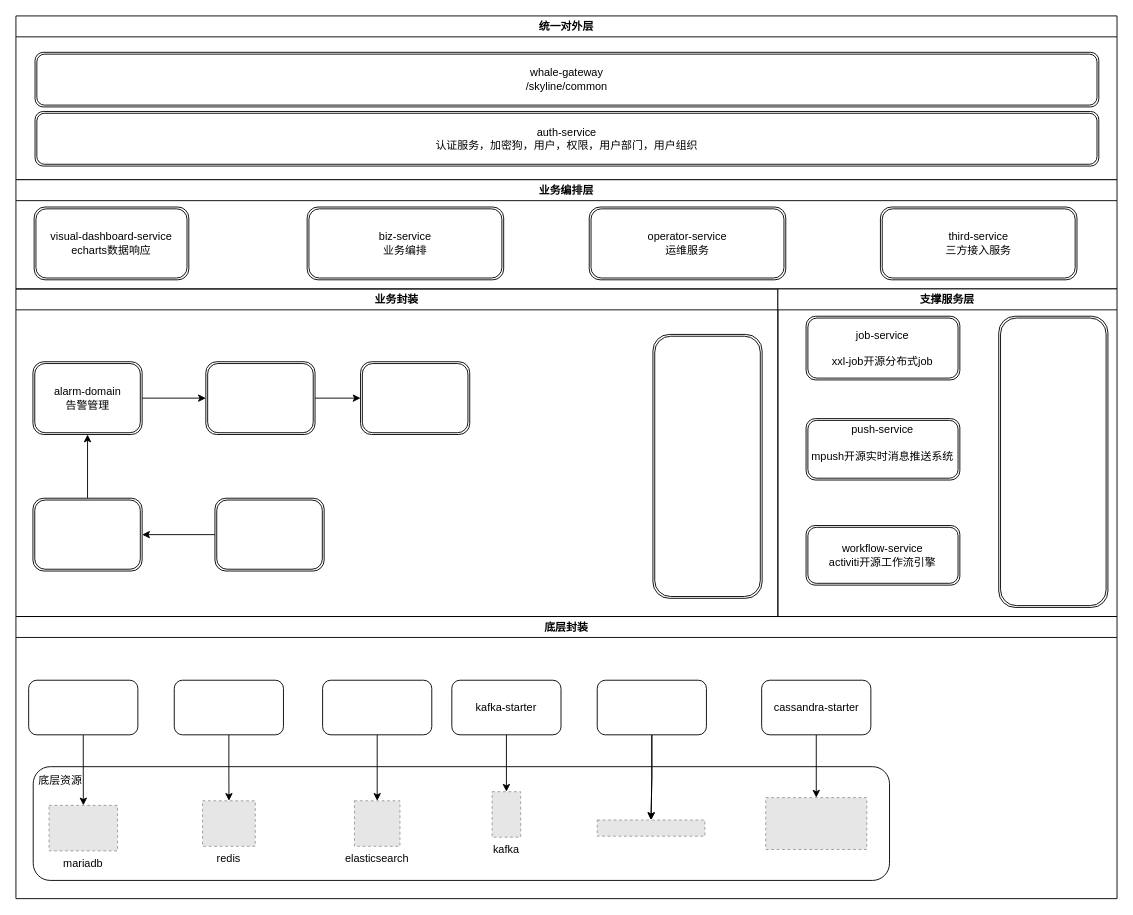
The diagram is 1133 pixels wide and 915 high, and some of its shapes have lost their labels. Grey dashed boxes stand in for pictures. Here are the shapes that lost their labels. From the top down, the centre of each, then its label:
(260,398): event-domain 事件
(415,398): case-domain 案件
(707,466): business-dict-service 业务字典维护 业务常量维护 业务开关维护
(1053,461): nacos 服务配置中心
(87,534): task-domain 任务
(269,534): device-domain 设备
(83,707): dao-starter
(228,707): cache-starter J2Cache 一二级缓存
(377,707): elasticsearch-stater
(651,707): minio-starter
